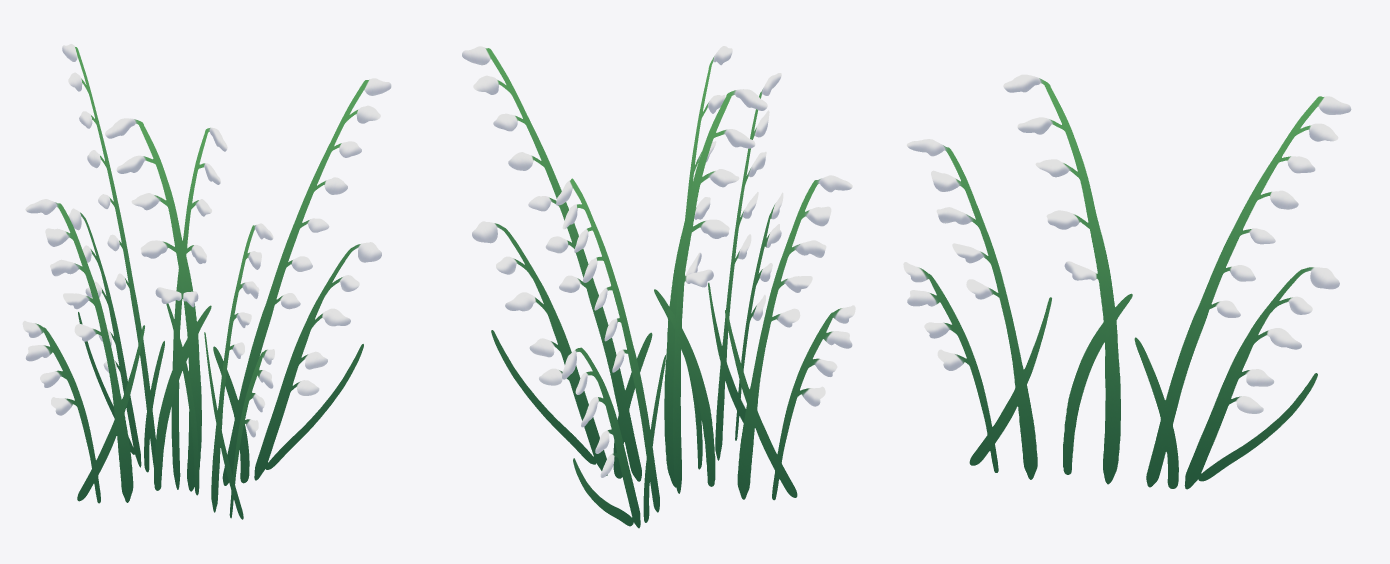
The model's file is SM_Campanelle.fbx.
The picture shows the model from 3 angles, left to right: view 1: azimuth 30°, elevation 25°; view 2: azimuth 150°, elevation 25°; view 3: azimuth 270°, elevation 25°; orthographic projection. The views are drawn at different scales.
Visible parts, largest first — view 1: SM_Campanelle_LOD0; view 2: SM_Campanelle_LOD0; view 3: SM_Campanelle_LOD0.
Boxes of the visible parts, x1,y1,x2,y2 form: SM_Campanelle_LOD0: (22, 44, 391, 519); SM_Campanelle_LOD0: (462, 46, 855, 528); SM_Campanelle_LOD0: (903, 74, 1351, 489).
Bounding box in the file's own units: 100 × 100 × 100.
1 material, 1 textured.
